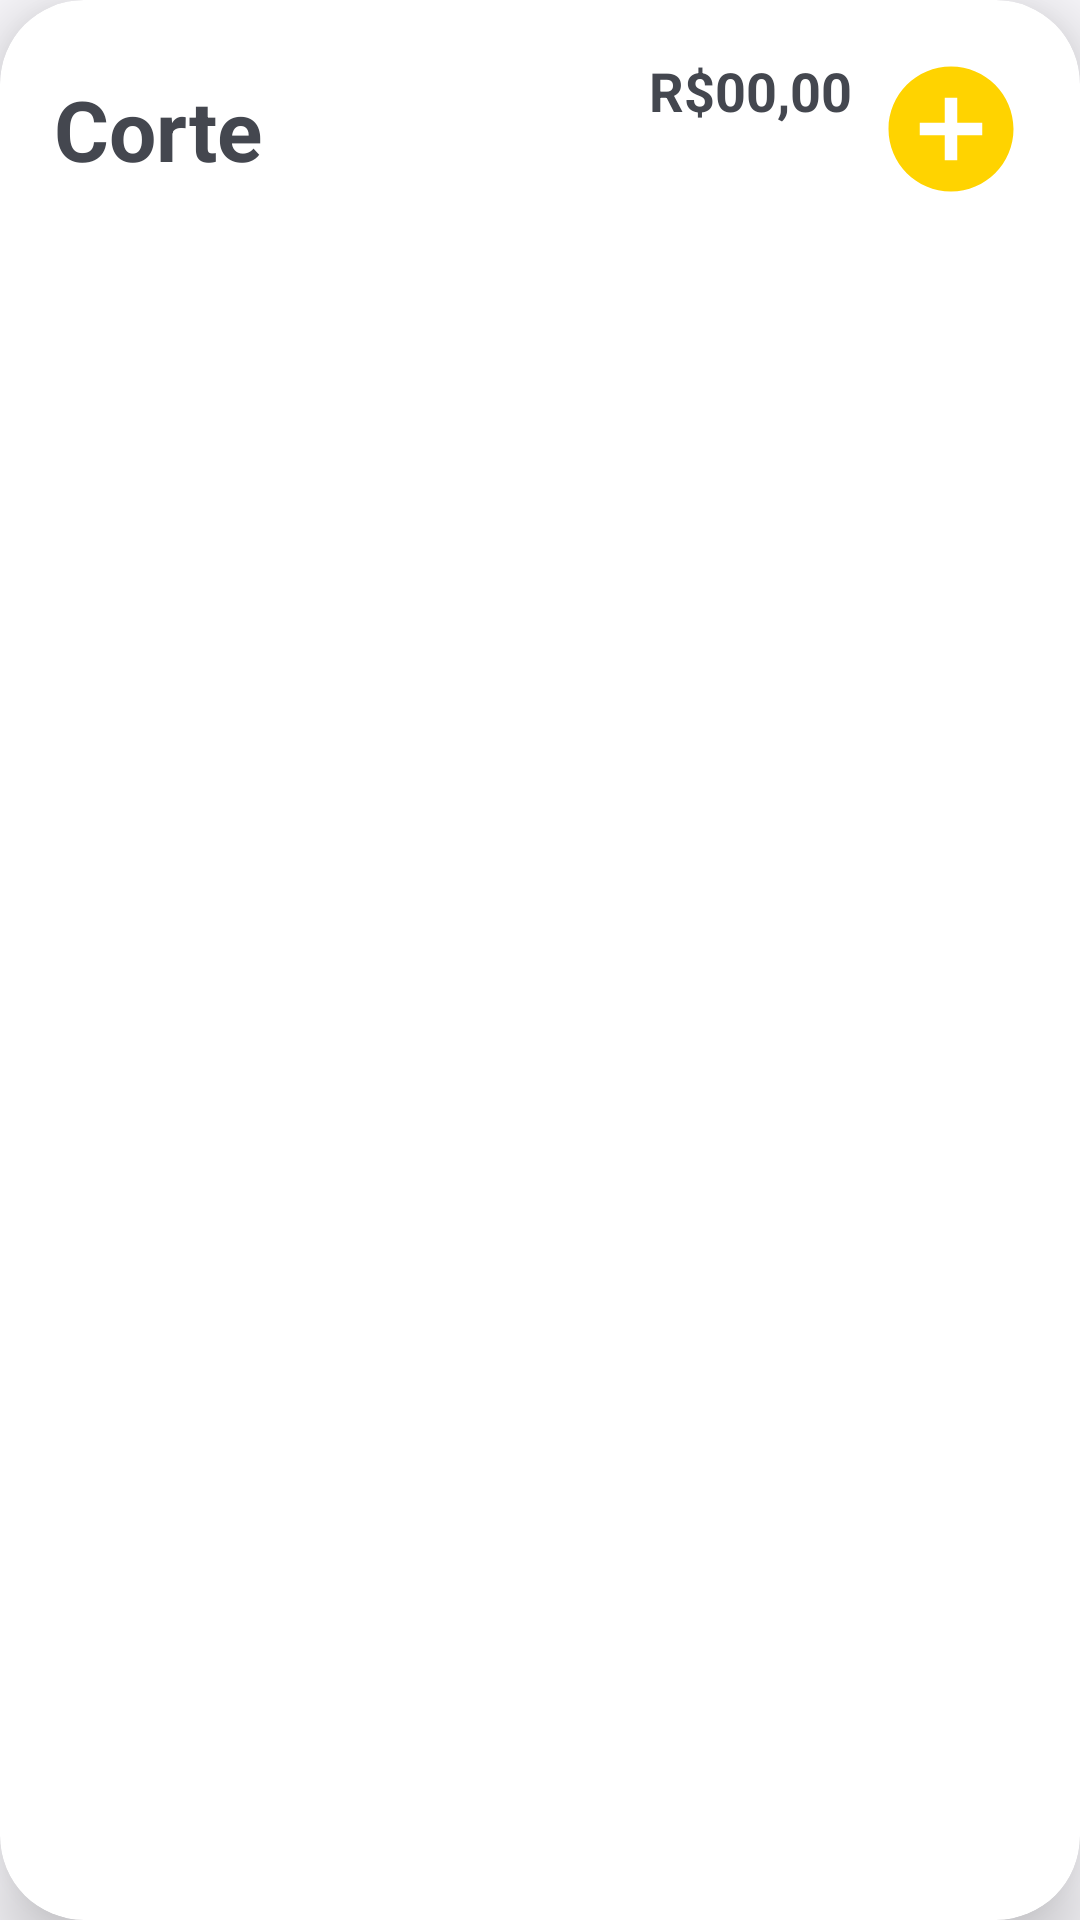

Icons on this 1080 x 1920 Android screen, each with its box as (x1, y1, x2, y2):
add circle: (888, 66, 1014, 192)
